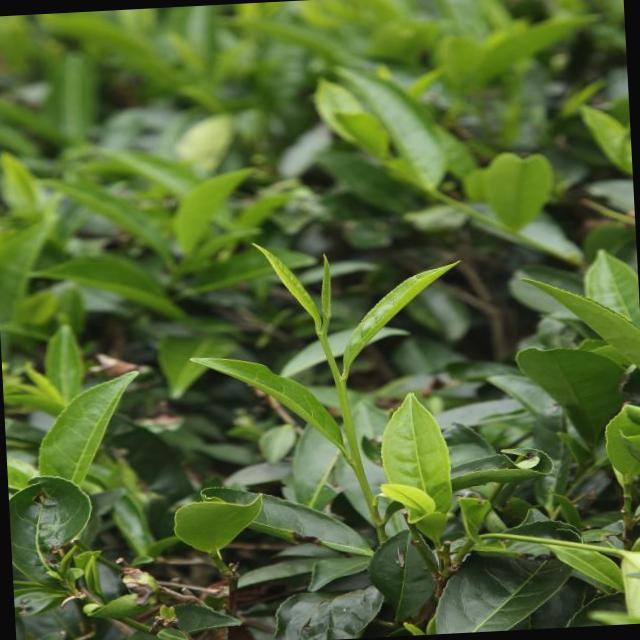Stem: (318, 330, 328, 341)
